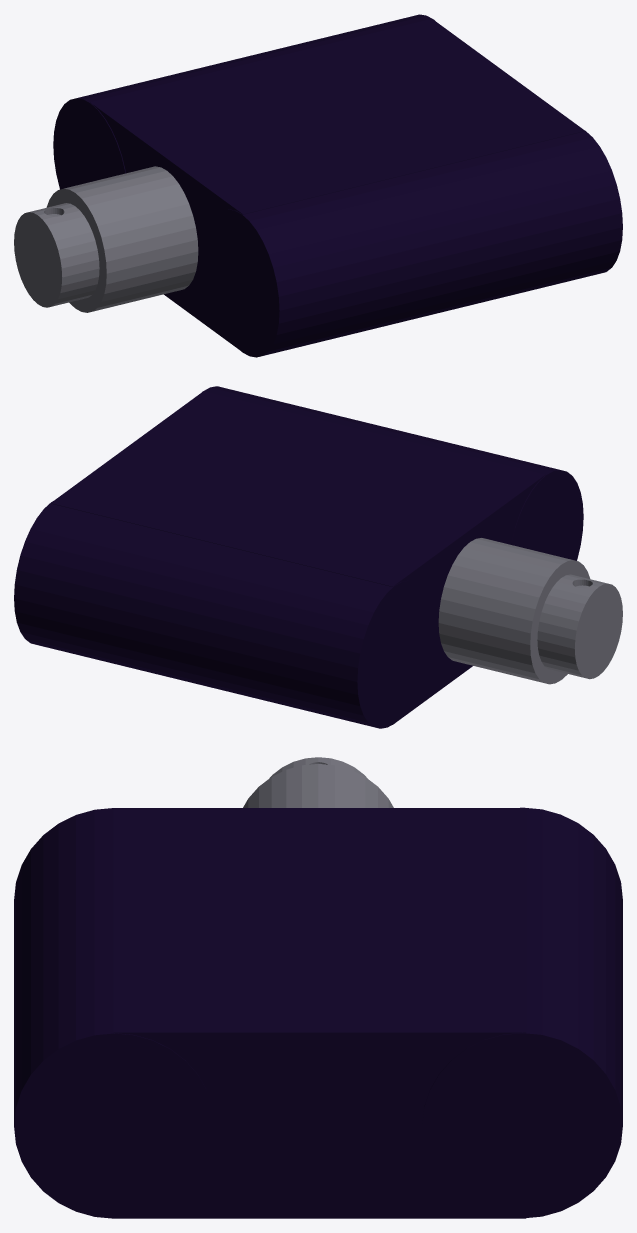
3 renders of one model, top to bottom at view 1: azimuth 30°, elevation 25°; view 2: azimuth 150°, elevation 25°; view 3: azimuth 270°, elevation 25°, orthographic. The views are drawn at different scales.
Visible parts, largest first — view 1: Cylinder.001, Cube, Cylinder.003, Cylinder.002, Cylinder.004; view 2: Cylinder.002, Cube, Cylinder.003, Cylinder.001, Cylinder.004; view 3: Cube, Cylinder.001, Cylinder.002, Cylinder.003.
Part boxes in pixels (x1,y1,x2,y2): Cylinder.001: (205,131,622,357); Cube: (90,19,584,349); Cylinder.003: (46,166,198,312); Cylinder.002: (53,14,434,189); Cylinder.004: (14,203,99,307); Cylinder.002: (14,501,431,728); Cube: (50,391,545,724); Cylinder.003: (438,538,590,684); Cylinder.001: (202,386,583,560); Cylinder.004: (537,574,622,679); Cube: (113,808,526,1218); Cylinder.001: (14,808,214,1218); Cylinder.002: (422,807,622,1218); Cylinder.003: (243,764,393,807).
Size of the model in its own units: 360 by 101 by 299.
